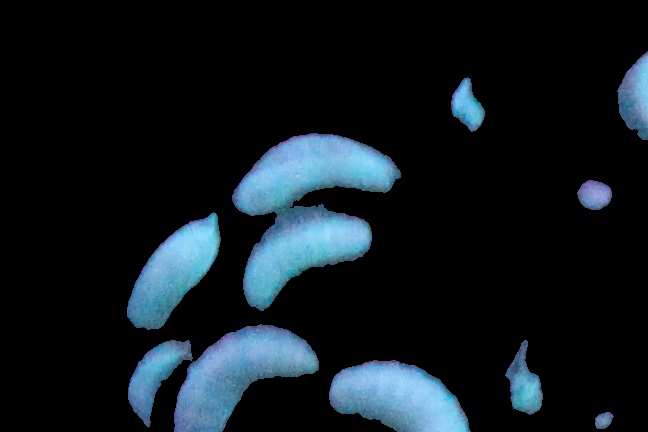larvae: (174, 327, 321, 432), (227, 133, 408, 217), (249, 212, 372, 317), (122, 212, 216, 335), (328, 353, 470, 432), (112, 344, 192, 422)
